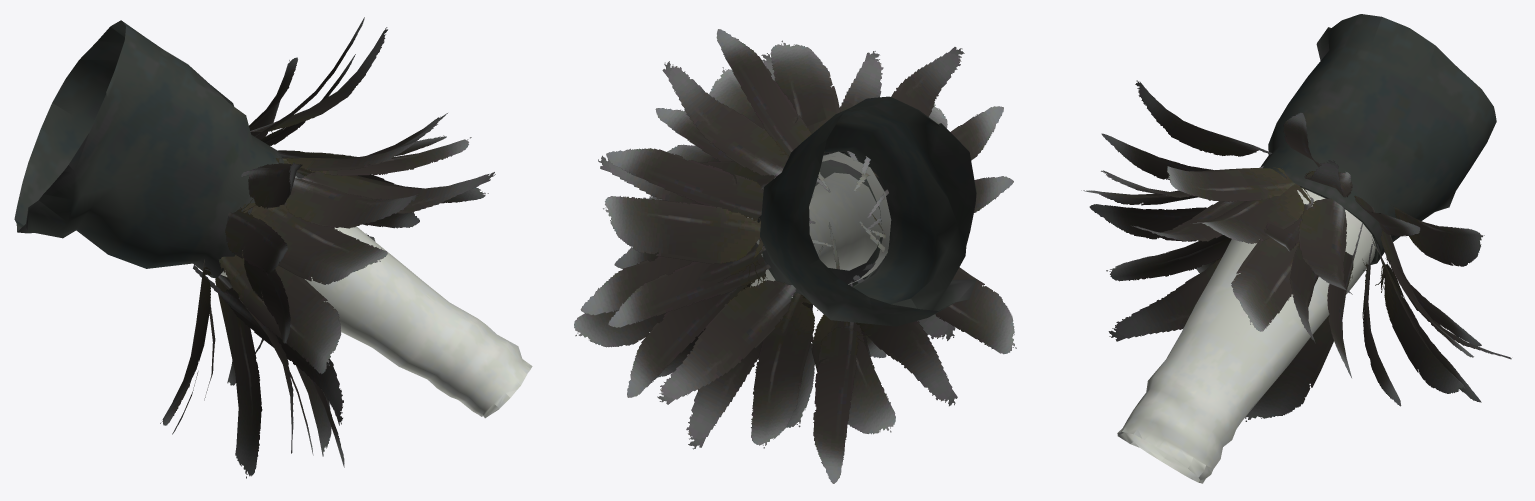
File: leftforearm.obj
3 views of the same model, side by side, from view 1: azimuth 30°, elevation 25°; view 2: azimuth 150°, elevation 25°; view 3: azimuth 270°, elevation 25° (orthographic). The views are drawn at different scales.
Visible parts, largest first — view 1: leftforearm:Object01 leftforearm:polySurface2 leftforearm:polySu; view 2: leftforearm:Object01 leftforearm:polySurface2 leftforearm:polySu; view 3: leftforearm:Object01 leftforearm:polySurface2 leftforearm:polySu.
Part boxes in pixels (x1,y1,x2,y2): leftforearm:Object01 leftforearm:polySurface2 leftforearm:polySu: [14, 17, 532, 478]; leftforearm:Object01 leftforearm:polySurface2 leftforearm:polySu: [574, 29, 1016, 483]; leftforearm:Object01 leftforearm:polySurface2 leftforearm:polySu: [1081, 14, 1511, 483].
Size of the model in its own units: 4.78 by 4.81 by 4.84.
2 materials, 2 textured.
